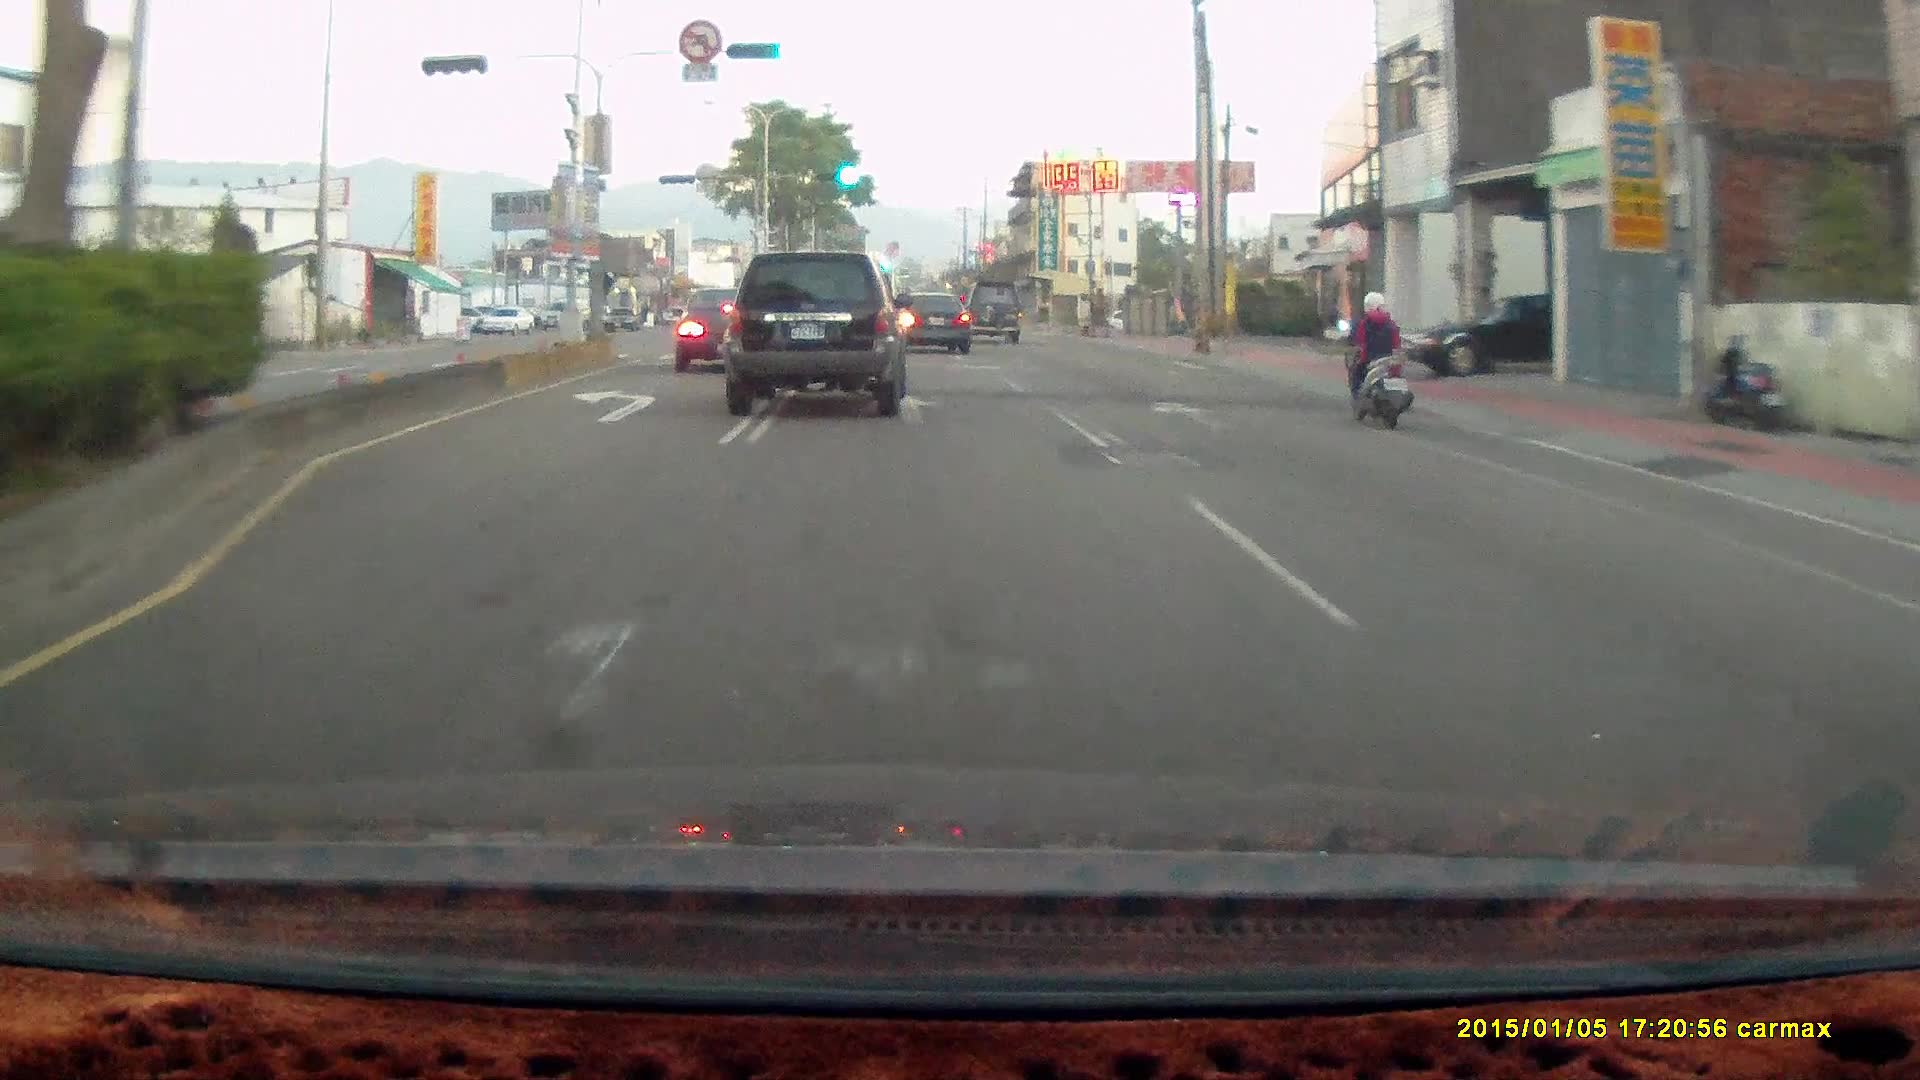rider: (1330, 281, 1425, 439), (1336, 287, 1415, 426)
vehicle: (729, 256, 917, 431), (722, 249, 915, 415), (1403, 289, 1619, 373), (1404, 292, 1571, 377), (676, 286, 787, 374), (672, 288, 781, 371), (893, 292, 974, 355), (891, 288, 971, 351), (959, 281, 1027, 347), (958, 277, 1023, 342), (478, 304, 536, 334), (537, 296, 589, 324), (606, 304, 642, 327)
